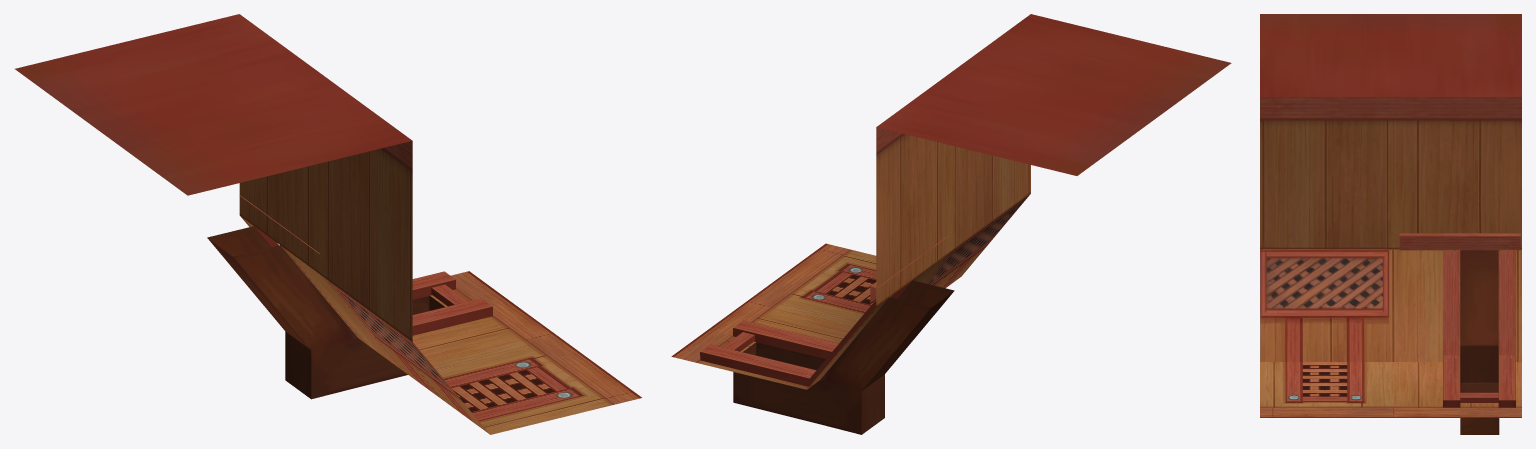
The model's file is FB_ShenLou_02.FBX.
3 views of the same model, side by side, from view 1: azimuth 30°, elevation 25°; view 2: azimuth 150°, elevation 25°; view 3: azimuth 270°, elevation 25° (orthographic). The views are drawn at different scales.
Parts seen in each view (by area): view 1: Object07; view 2: Object07; view 3: Object07.
Part boxes in pixels (box(x1,y1,x2,y2)): Object07: box(15, 14, 641, 434); Object07: box(671, 14, 1231, 434); Object07: box(1260, 14, 1521, 434).
Size of the model in its own units: 15.16 by 11.56 by 10.
